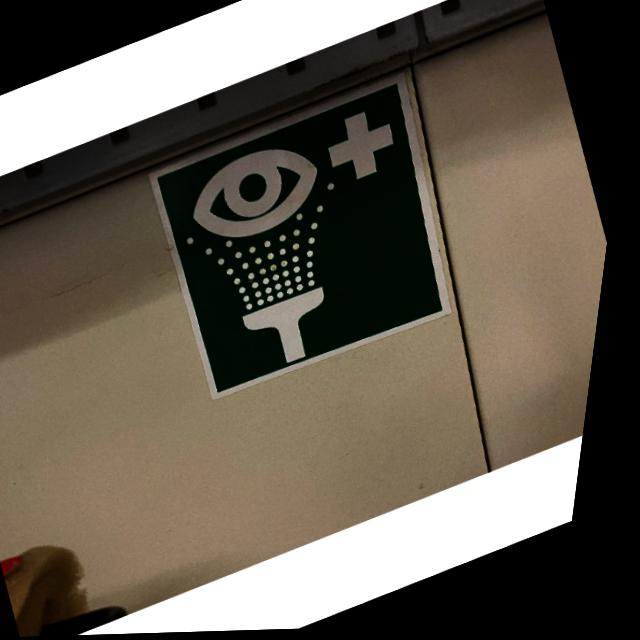eye shower: (127, 70, 497, 414)
